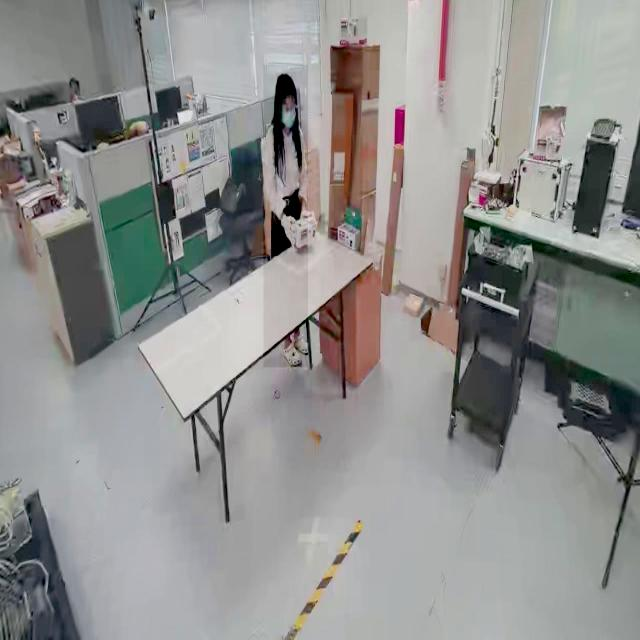face_mask: (278, 99, 296, 133)
hand_glove: (279, 214, 297, 246)
head_nohelmet: (276, 72, 296, 96)
person: (263, 65, 308, 368)
